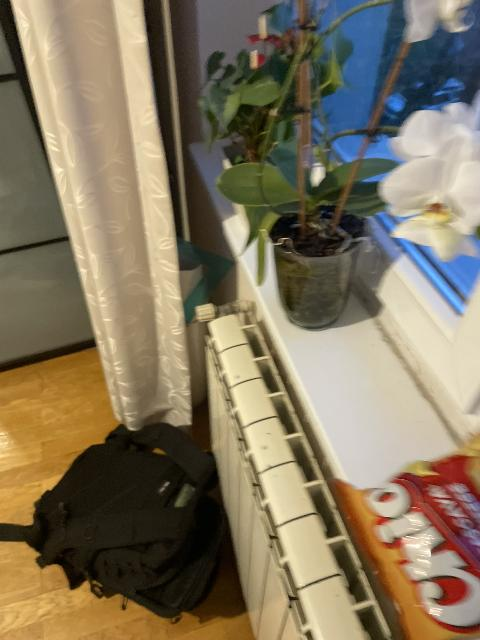Chio Cascaval 125g: (327, 430, 480, 640)
